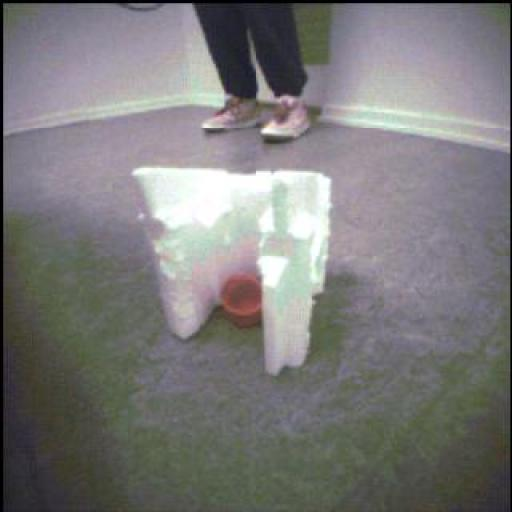Bucket: (215, 269, 265, 334)
